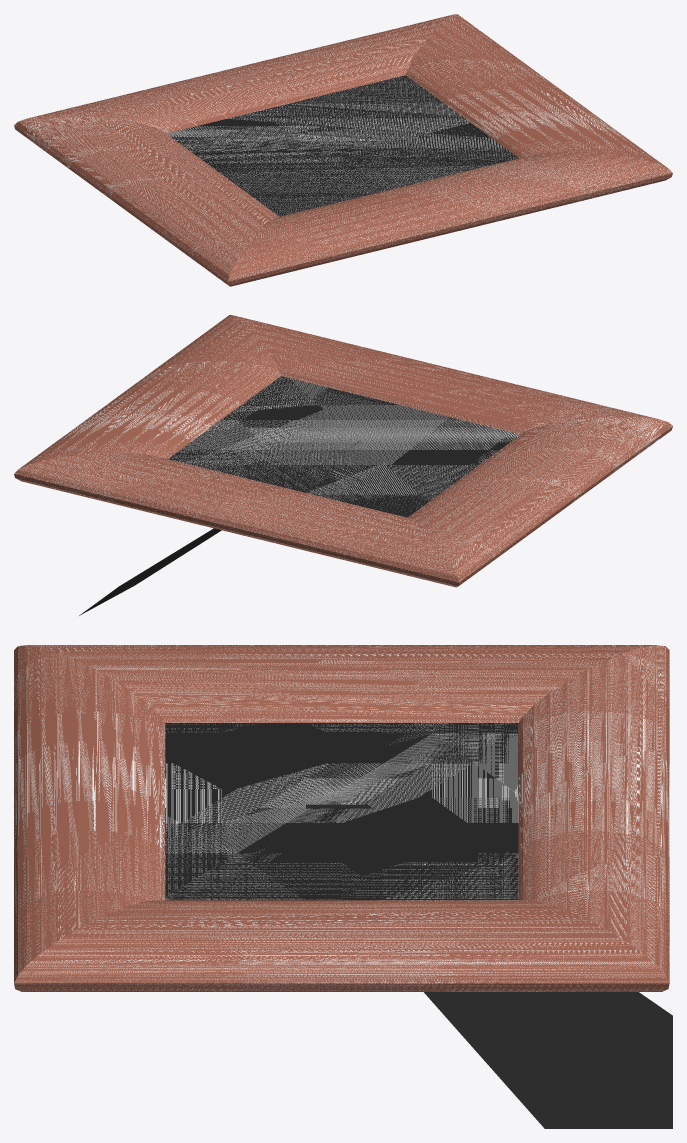
3 views of the same model, one above another, from view 1: azimuth 30°, elevation 25°; view 2: azimuth 150°, elevation 25°; view 3: azimuth 270°, elevation 25° (orthographic). The views are drawn at different scales.
Parts seen in each view (by area): view 1: picture frame; view 2: picture frame; view 3: picture frame.
Boxes of the visible parts, box(x1,y1,x2,y2) form: picture frame: box(14, 14, 672, 286); picture frame: box(14, 315, 672, 615); picture frame: box(14, 645, 672, 1128).
Bounding box in the file's own units: 10127 × 3063 × 8465.
